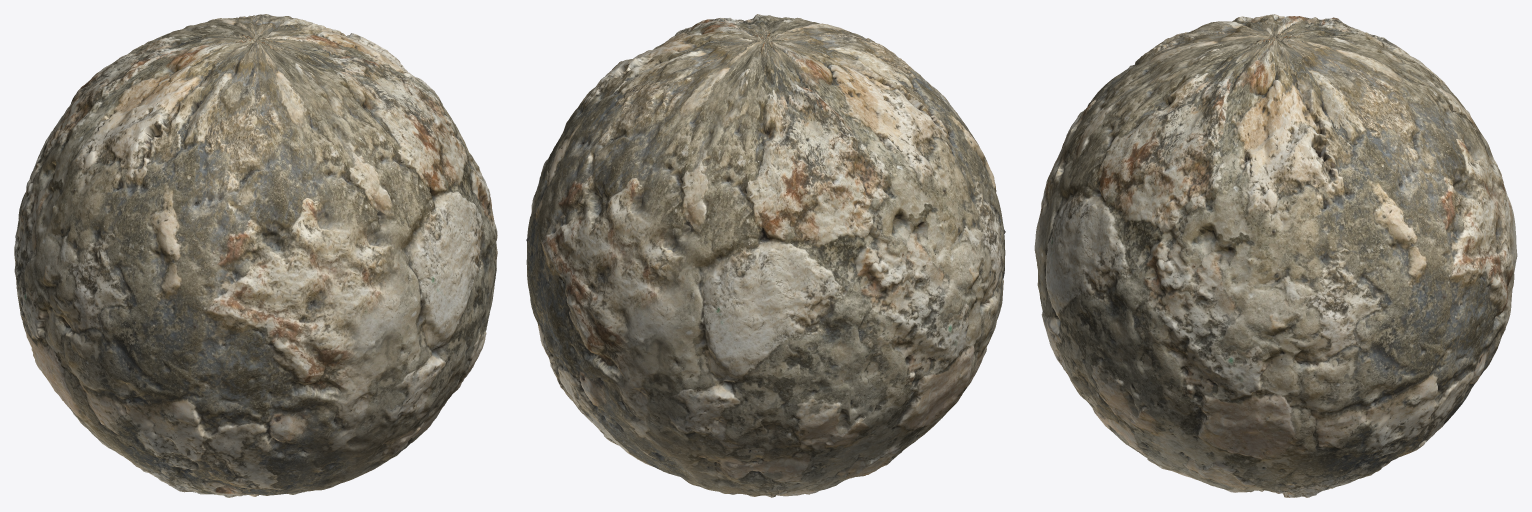
File: coral_fort_wall_02_1k.gltf
The picture shows the model from 3 angles, left to right: view 1: azimuth 30°, elevation 25°; view 2: azimuth 150°, elevation 25°; view 3: azimuth 270°, elevation 25°; orthographic projection.
Visible parts, largest first — view 1: sphere_gltf; view 2: sphere_gltf; view 3: sphere_gltf.
Part boxes in pixels (box(x1,y1,x2,y2)): sphere_gltf: box(14, 14, 497, 497); sphere_gltf: box(526, 14, 1005, 497); sphere_gltf: box(1034, 14, 1517, 497).
Size of the model in its own units: 1.01 by 1.01 by 1.01.
1 material, 1 textured.
